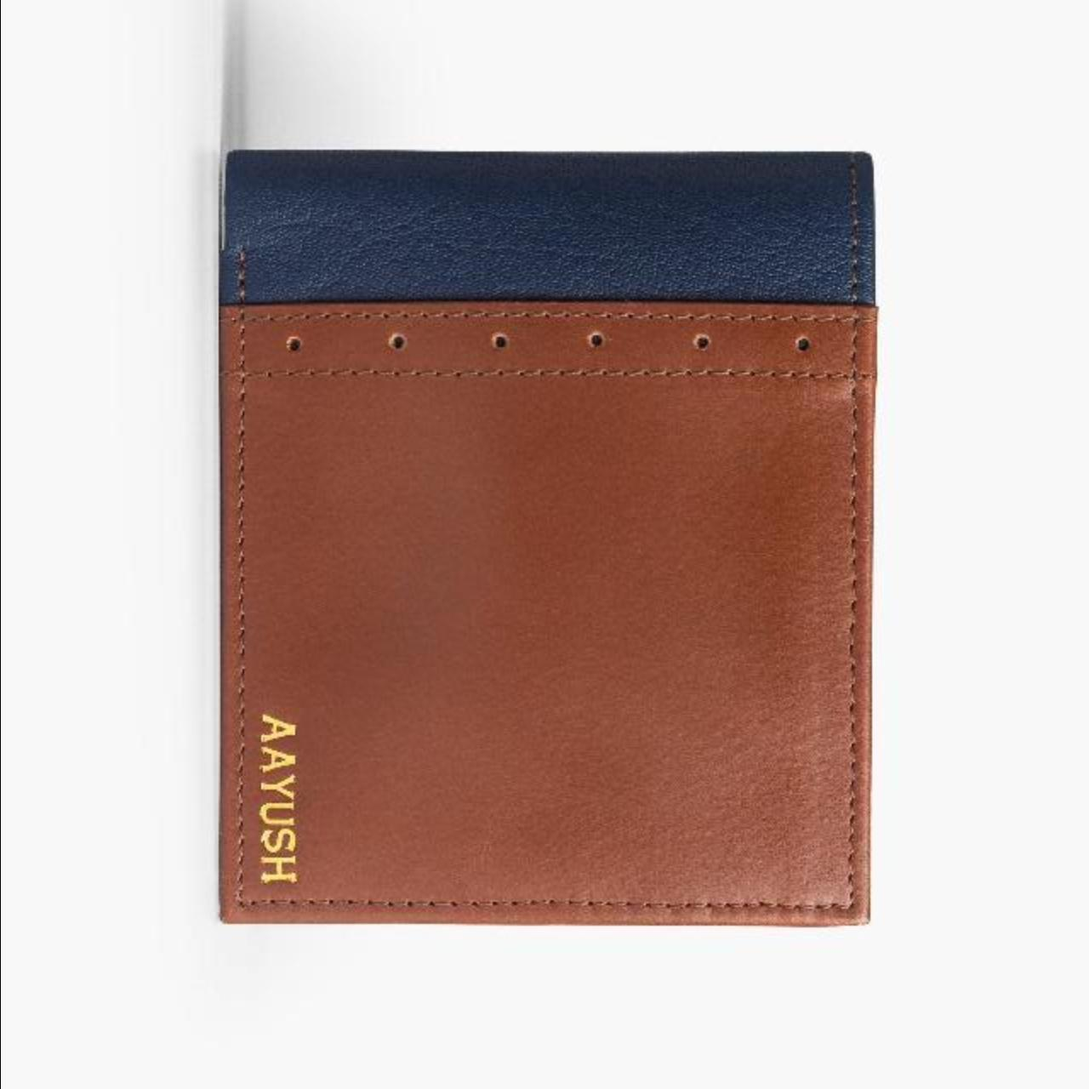wallet: (195, 130, 886, 945)
